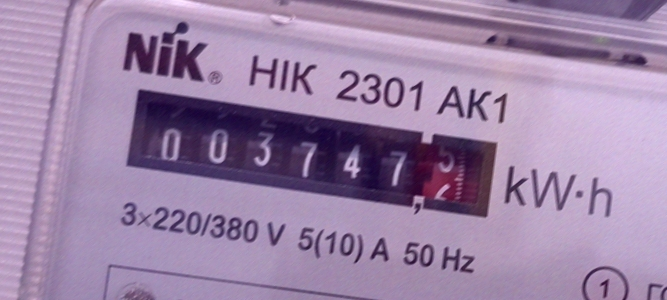0: (204, 124, 230, 165), (157, 124, 183, 162)
3: (250, 129, 274, 168)
4: (339, 139, 364, 182)
5: (434, 143, 457, 174)
6: (430, 179, 451, 202)
7: (382, 146, 409, 188), (293, 138, 318, 179)
screen: (114, 77, 513, 234)
